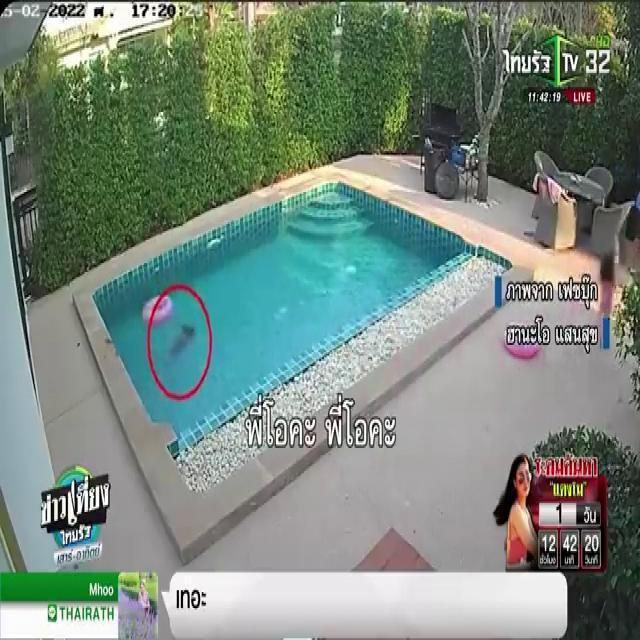Out of Water: (163, 320, 194, 374)
